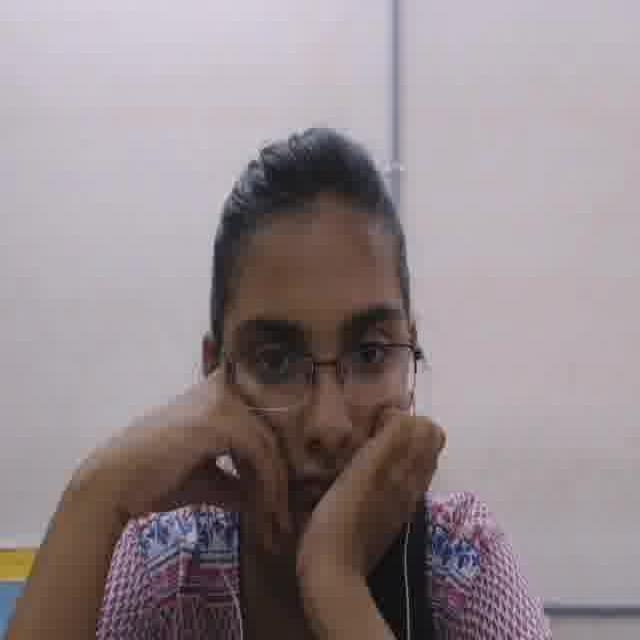Frustration: (217, 213, 407, 556)
